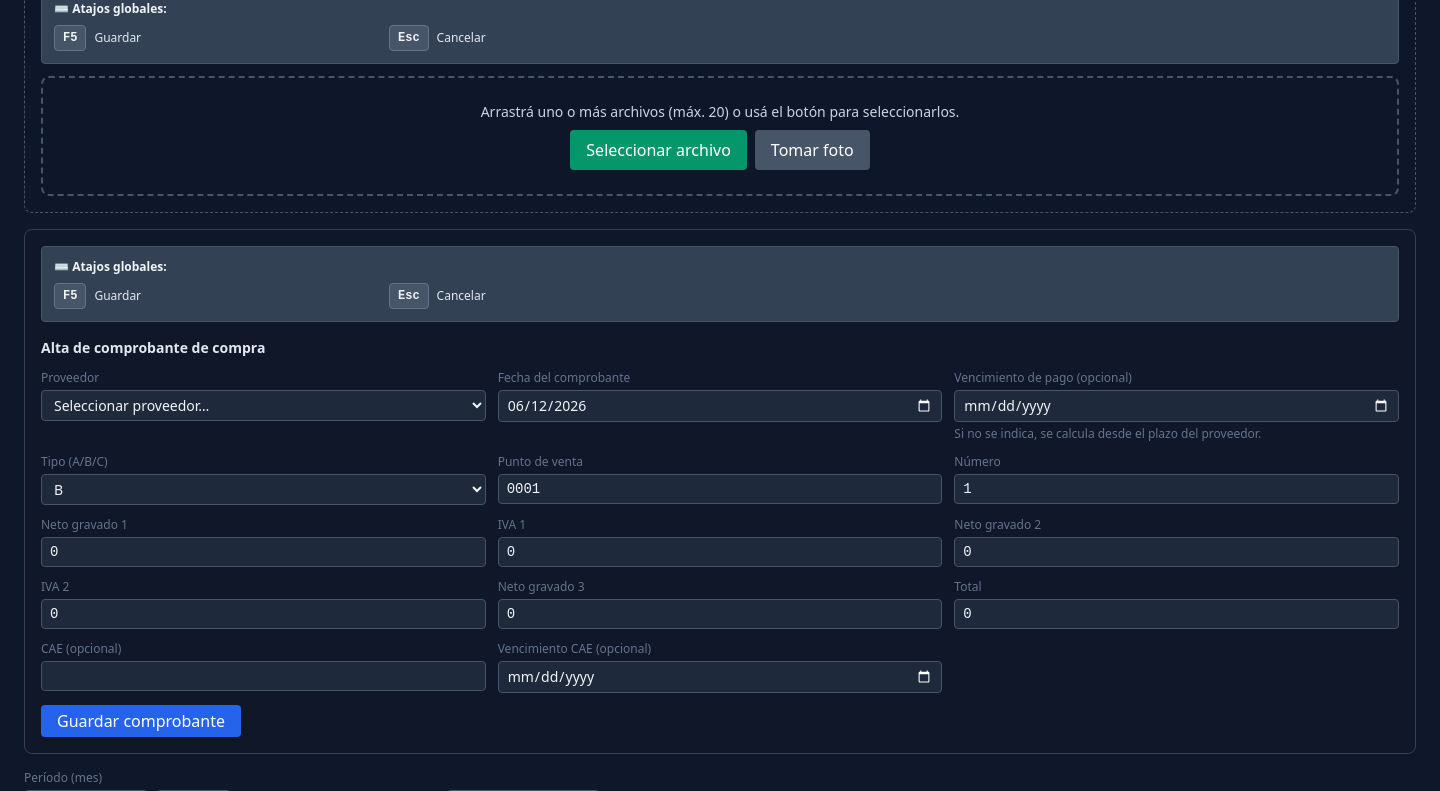
Test case: FinanzasPage › registra comprobante de compra y refresca preview
(page scrolled)
Select "100 — Proveedor Test SA" in the dropdown with test id "finanzas-comprobante-compra-proveedor" at (263,406), box [41,390,486,421]
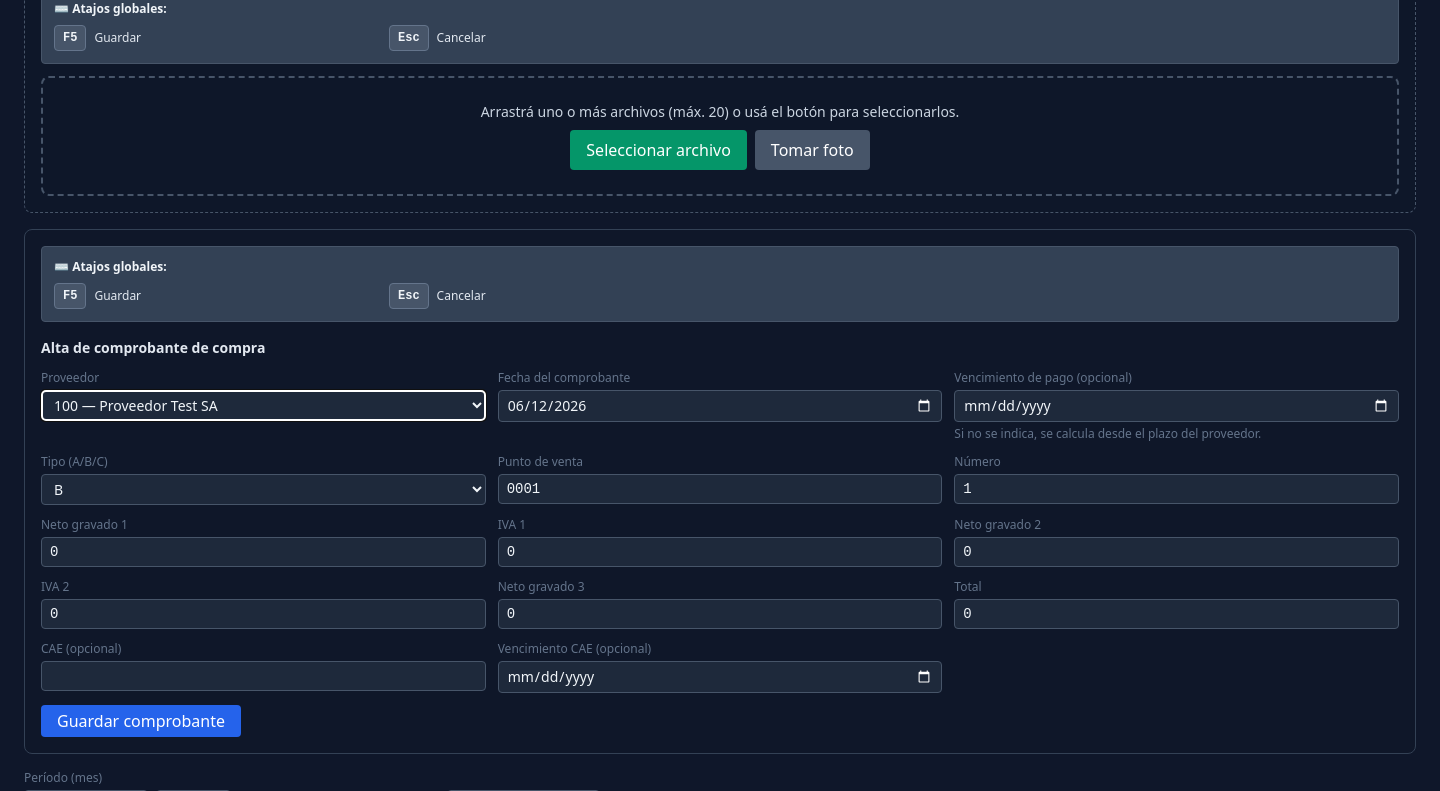
Replace the text in the number field with test id "finanzas-comprobante-compra-neto1" with "100" at (263,552), box [41,537,486,567]
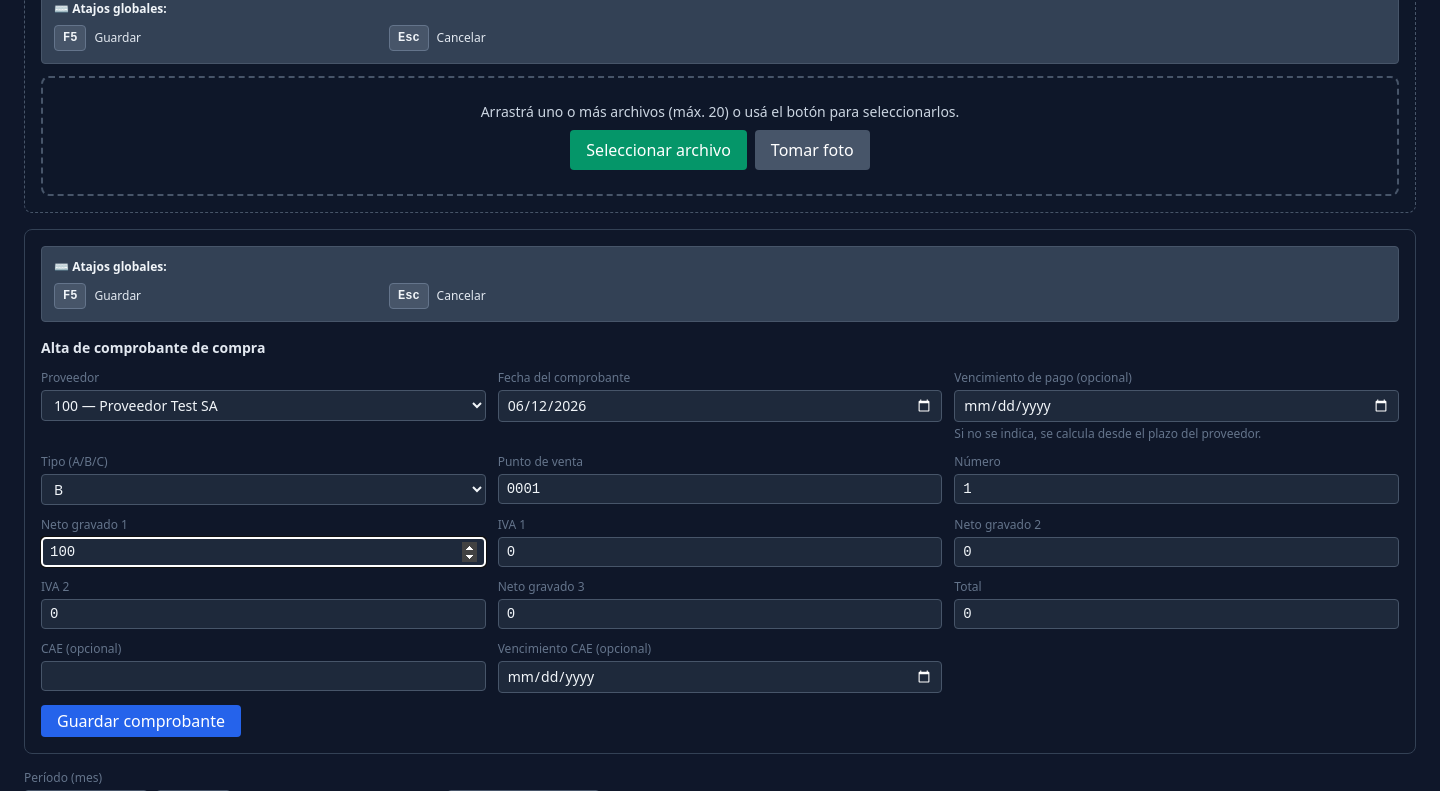
Replace the text in the number field with test id "finanzas-comprobante-compra-iva1" with "21" at (720,552), box [498,537,942,567]
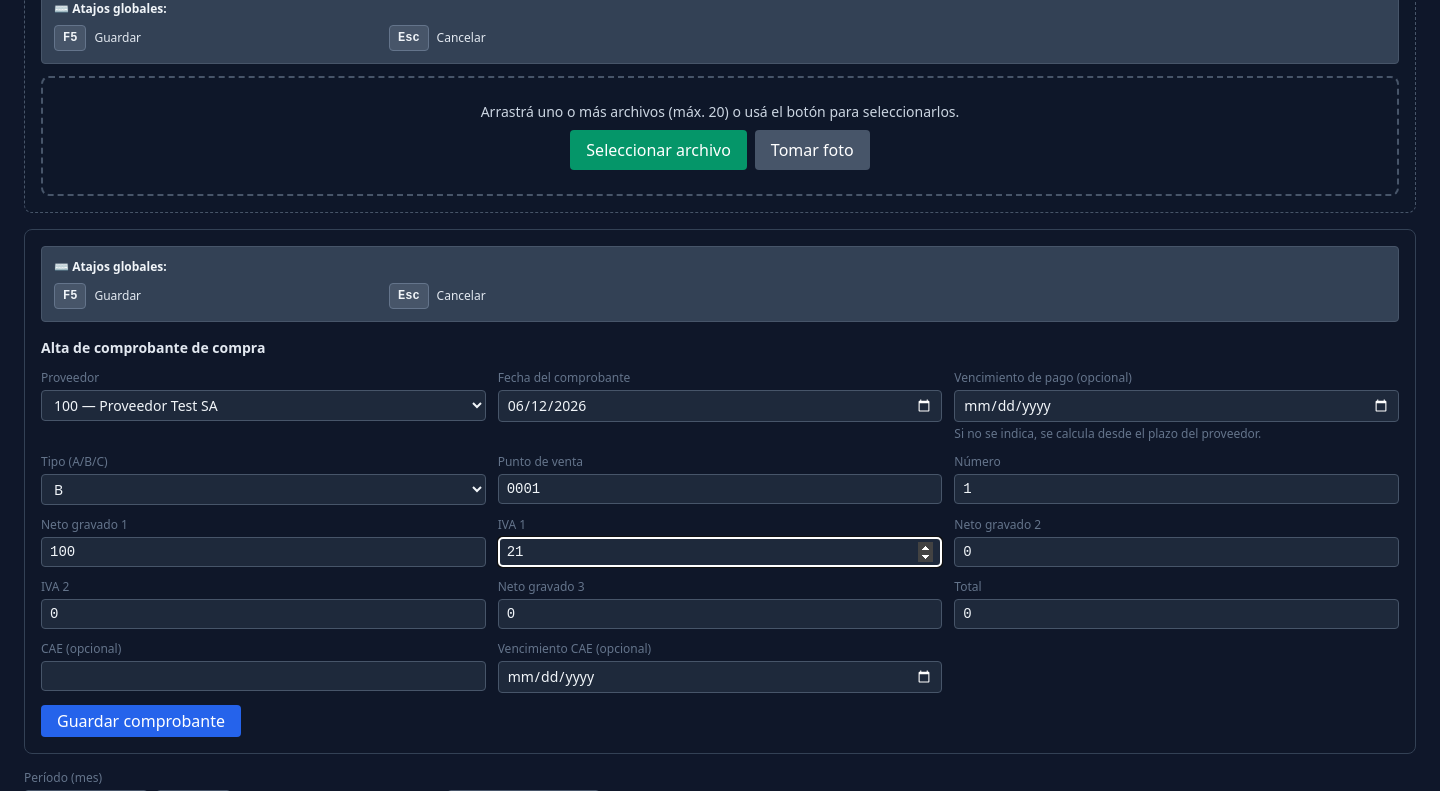
Replace the text in the number field with test id "finanzas-comprobante-compra-total" with "121" at (1177,614), box [954,599,1399,629]
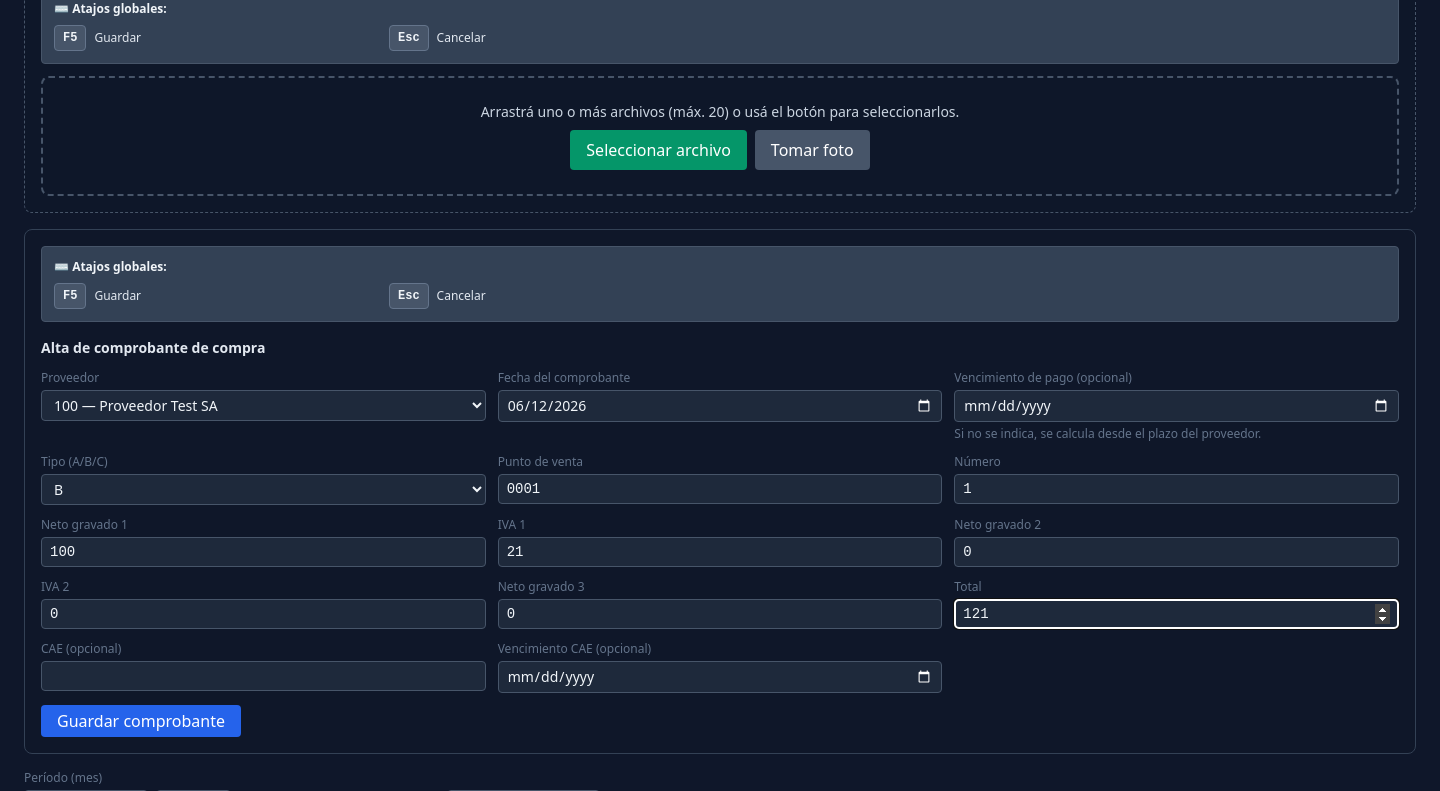
Click the button with test id "finanzas-comprobante-compra-submit" at (141,721), box [41,705,241,737]
(page scrolled)
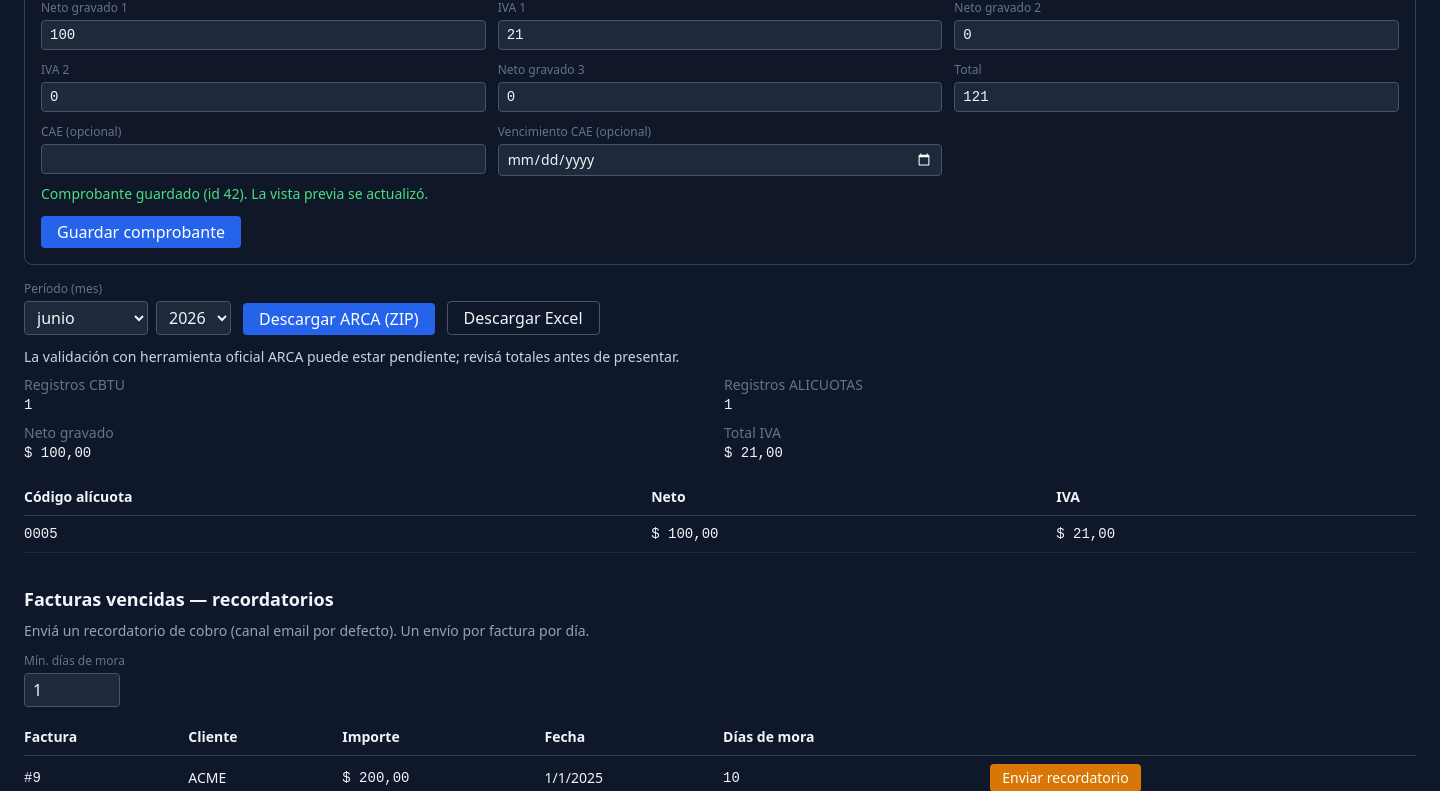
Now the message "Comprobante guardado (id 42). La vista previa se actualizó." is shown, box [41,184,428,203]
Now the text with test id "finanzas-libro-iva-compras-count-cbtu" reads "1", box [24,397,32,413]
